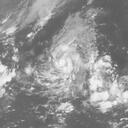cyclone: (37, 43, 82, 93)
